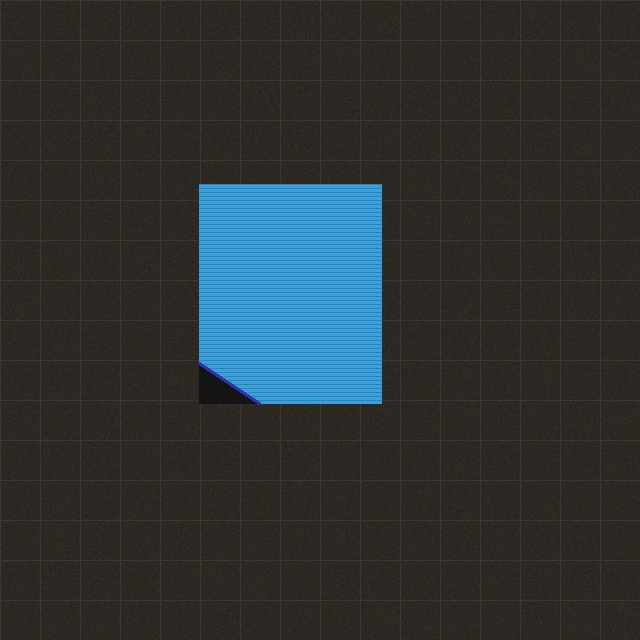warping: (189, 343, 279, 413)
